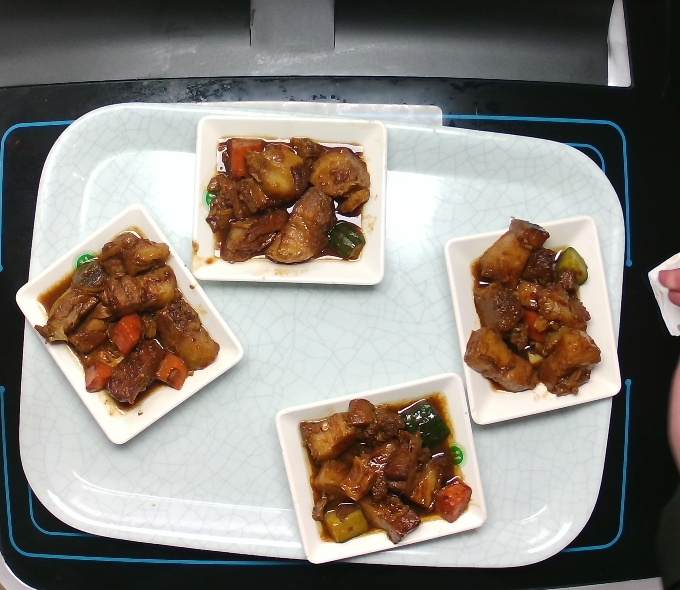wcq-JiangRou: (35, 225, 225, 406), (286, 393, 476, 545), (458, 212, 603, 401), (204, 131, 376, 270)
